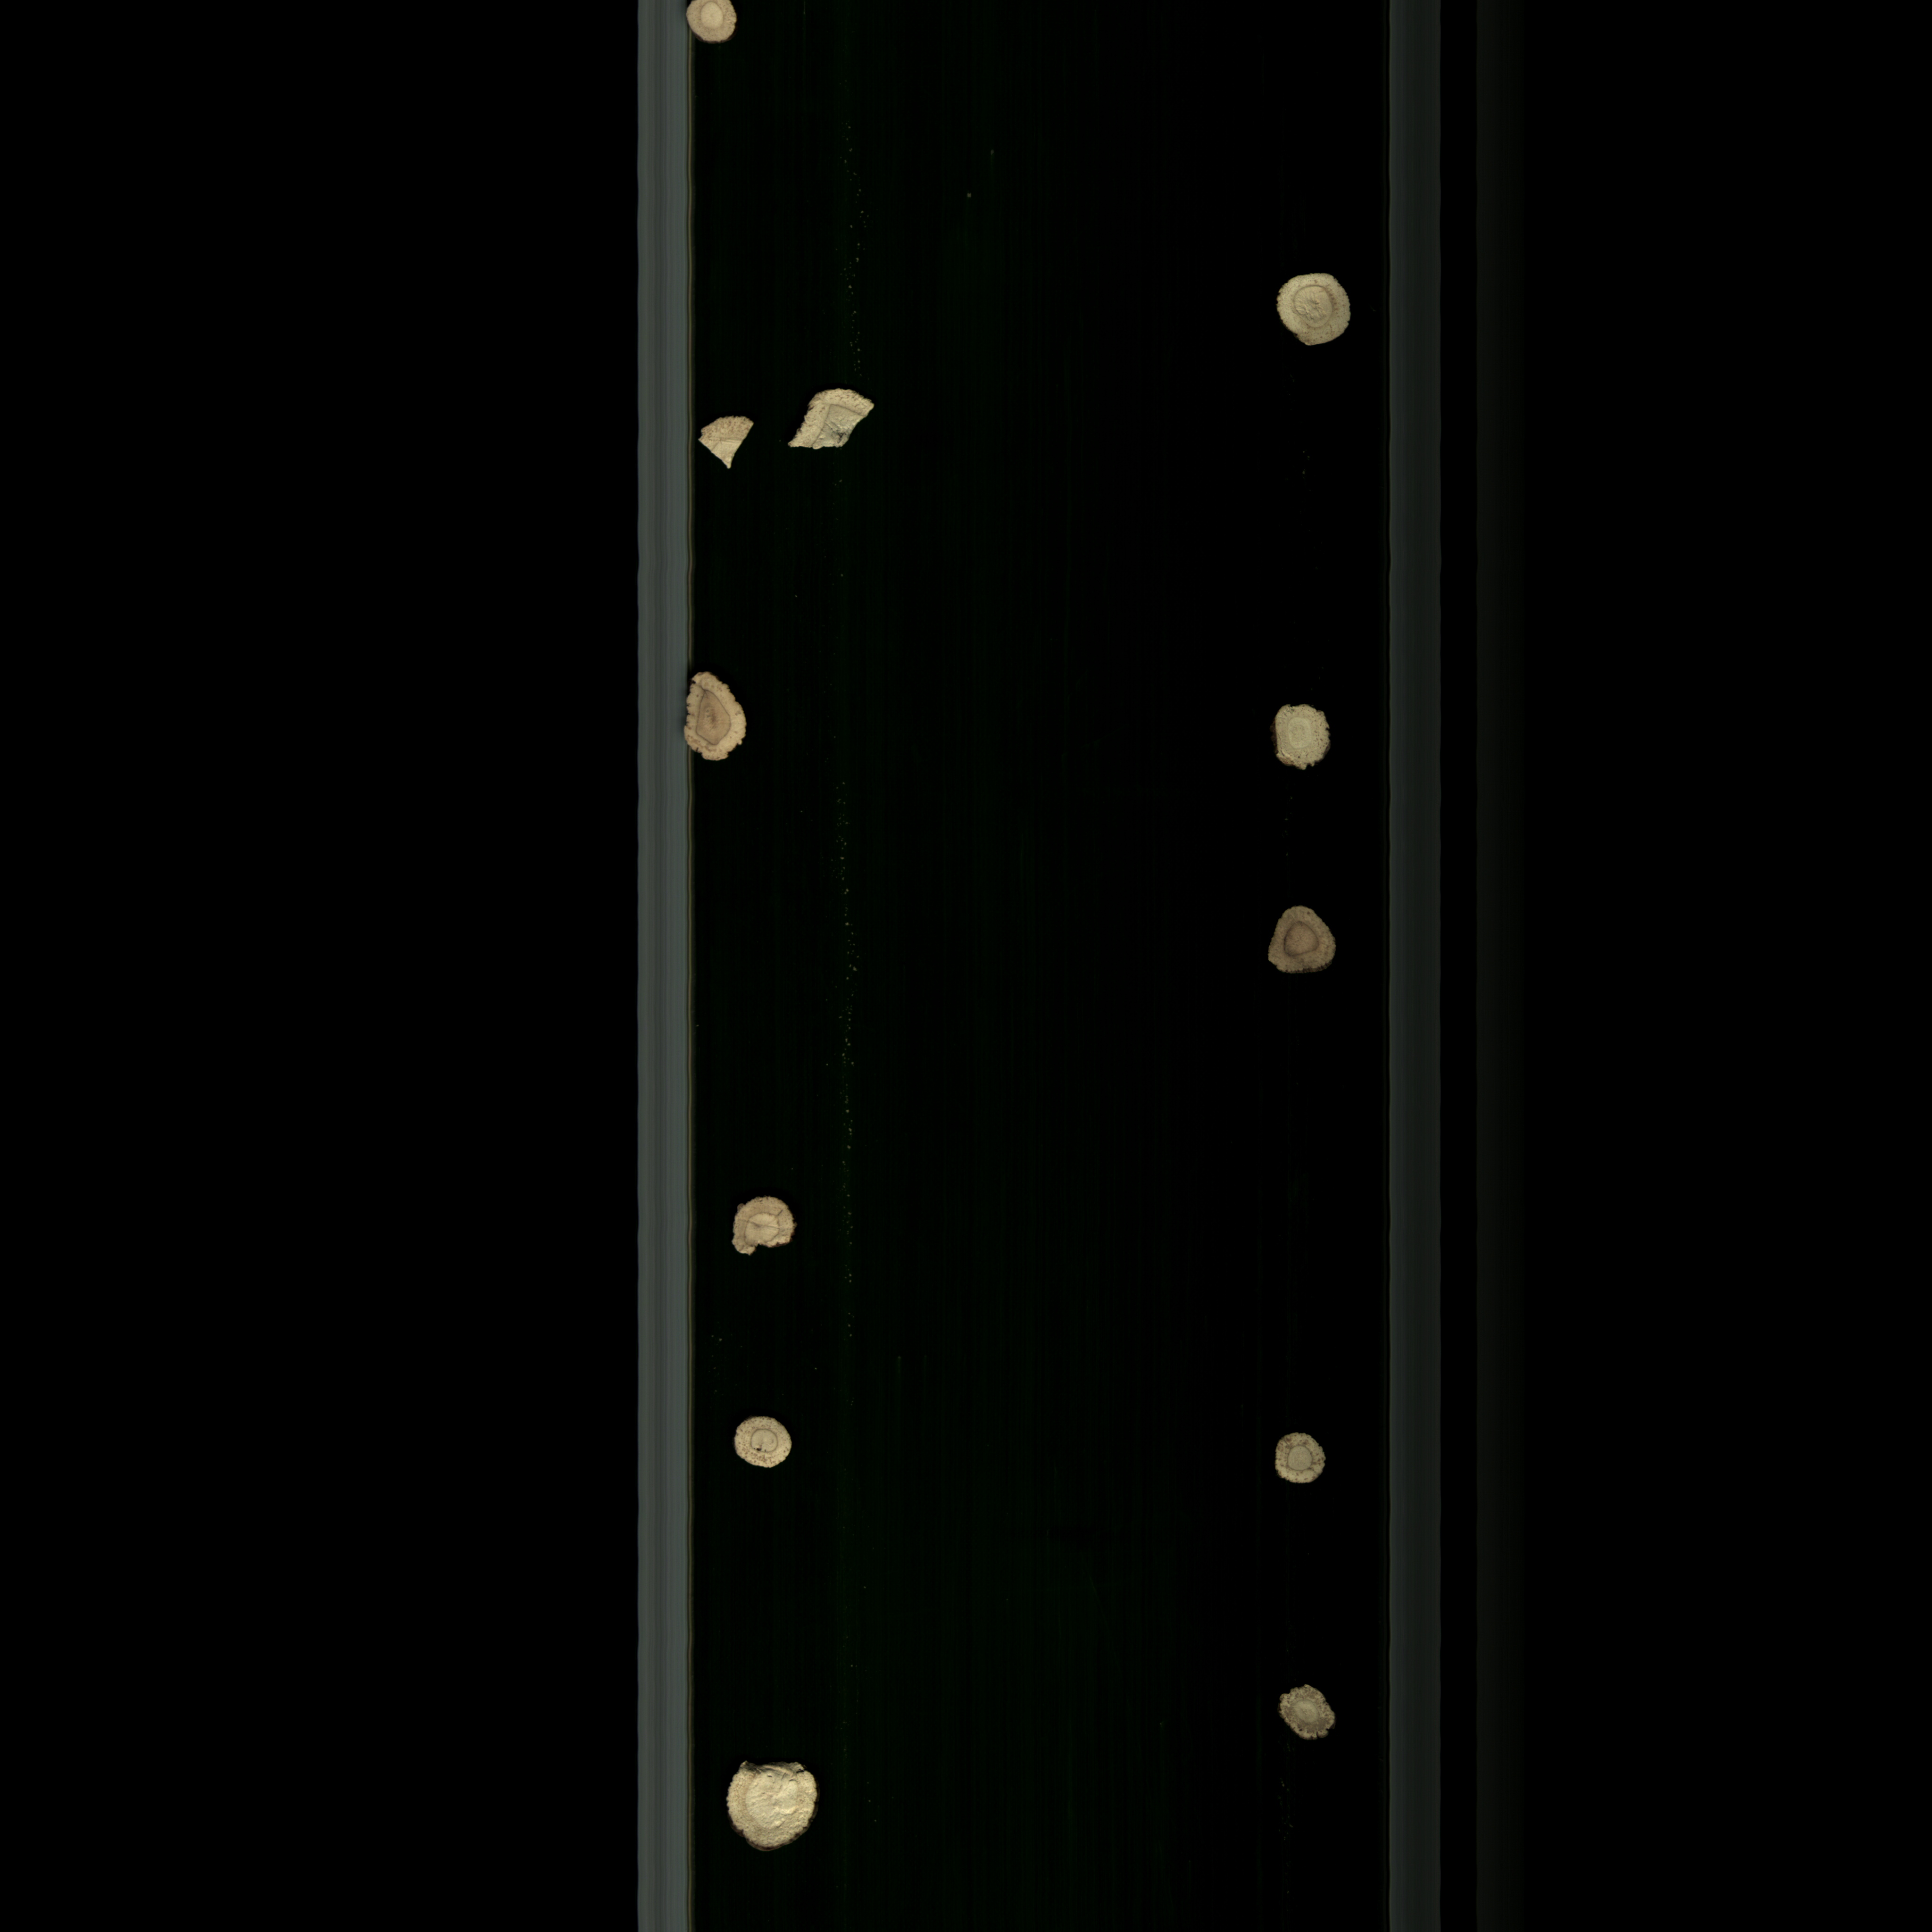debris: (720, 1757, 835, 1863), (778, 387, 890, 456), (725, 1198, 809, 1261), (686, 414, 757, 481)
moldy: (672, 667, 761, 766), (1253, 897, 1352, 978), (1267, 1681, 1343, 1752), (1267, 1430, 1338, 1502), (678, 2, 754, 50)
